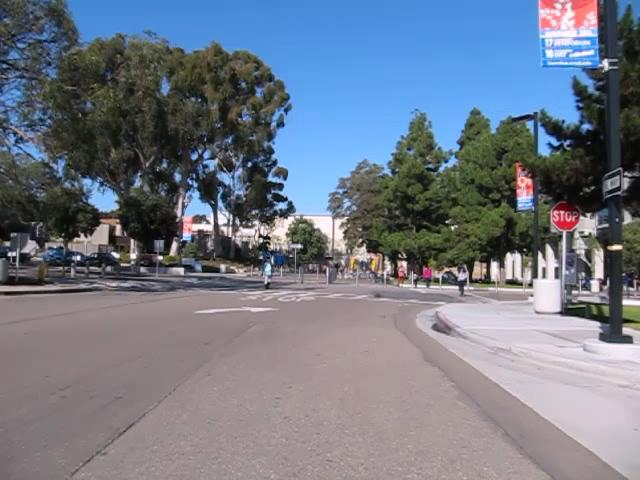stop: (549, 200, 581, 231)
